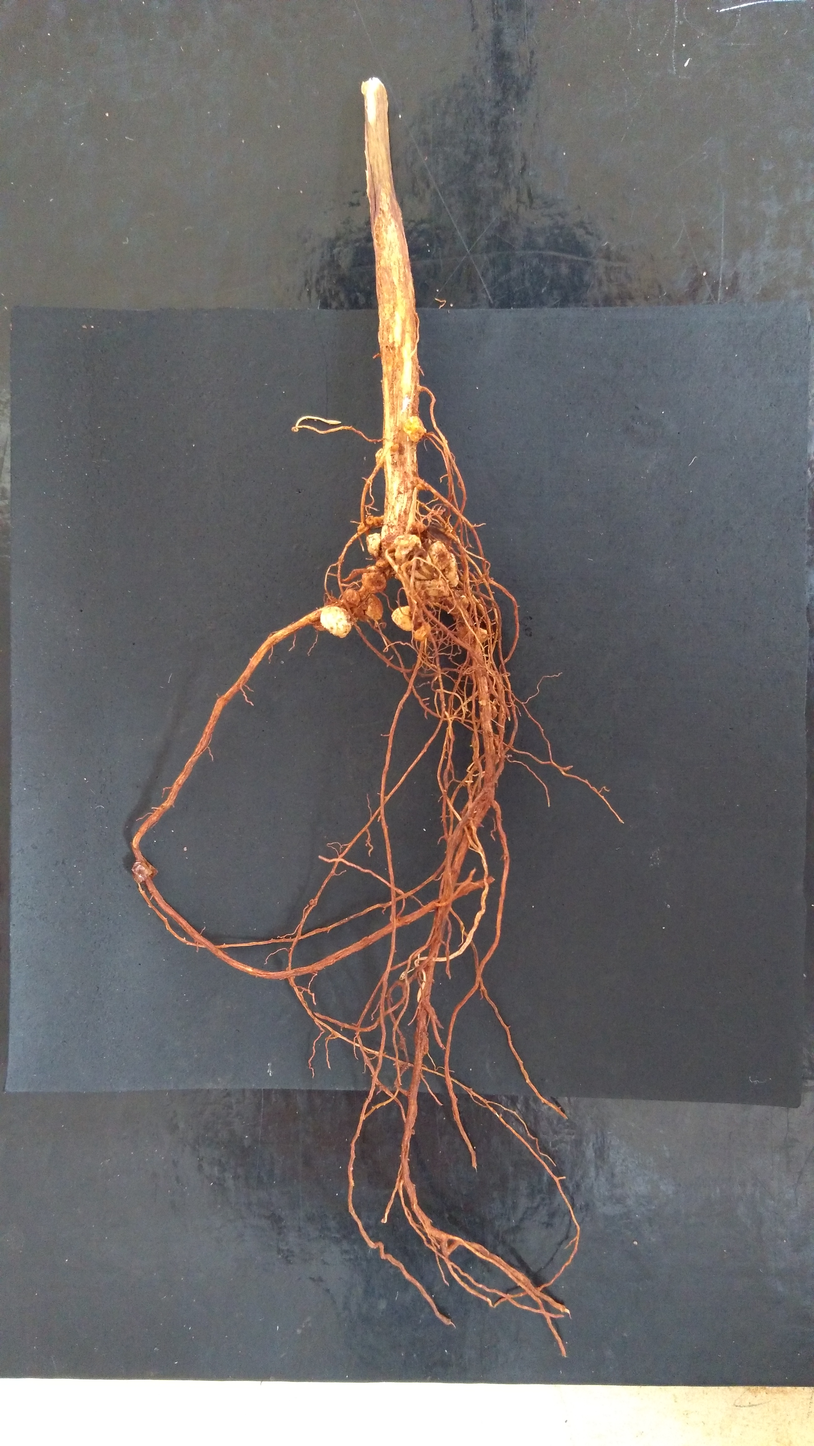nodule: (320, 606, 354, 638), (394, 534, 421, 566), (443, 588, 469, 620), (422, 523, 452, 550), (428, 541, 452, 570), (361, 566, 386, 593), (415, 578, 449, 597), (442, 551, 459, 588), (402, 416, 426, 442), (131, 860, 158, 883), (456, 614, 475, 645), (391, 606, 413, 631), (364, 594, 383, 619), (407, 564, 434, 580), (365, 533, 381, 558), (352, 601, 369, 622), (343, 589, 360, 609), (414, 623, 432, 641), (375, 552, 394, 569), (491, 731, 501, 763), (474, 627, 488, 644), (375, 448, 385, 470), (409, 521, 427, 533), (313, 619, 327, 631), (489, 700, 497, 721), (416, 480, 425, 491), (373, 516, 382, 526), (357, 522, 365, 532), (365, 516, 374, 524), (391, 444, 399, 452), (394, 573, 401, 580), (425, 485, 431, 490), (438, 509, 443, 515), (434, 494, 437, 499)
